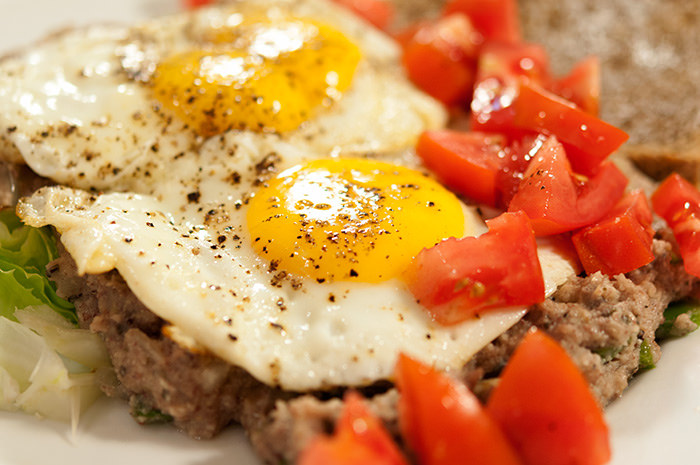fried egg: (103, 139, 540, 357), (10, 11, 447, 179)
